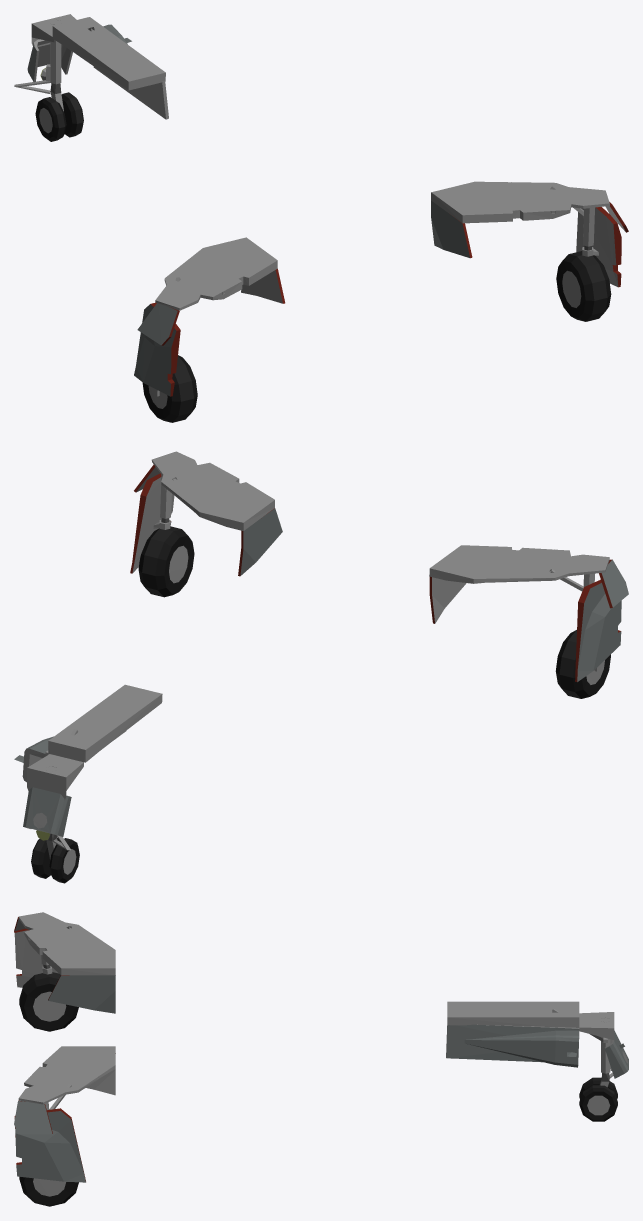
Rendered from Gear_F4EJ.obj.
The picture shows the model from 3 angles, top to bottom: view 1: azimuth 30°, elevation 25°; view 2: azimuth 150°, elevation 25°; view 3: azimuth 270°, elevation 25°; orthographic projection. The views are drawn at different scales.
Parts seen in each view (by area): view 1: ShapeIndexedFaceSet.100_ShapeIndexedFaceSet.101, ShapeIndexedFaceSet.138_ShapeIndexedFaceSet.139, ShapeIndexedFaceSet.117_ShapeIndexedFaceSet.118, ShapeIndexedFaceSet.105_ShapeIndexedFaceSet.106, ShapeIndexedFaceSet.122_ShapeIndexedFaceSet.123, ShapeIndexedFaceSet.114_ShapeIndexedFaceSet.115, ShapeIndexedFaceSet.108_ShapeIndexedFaceSet.109, ShapeIndexedFaceSet.133_ShapeIndexedFaceSet.134, ShapeIndexedFaceSet.101_ShapeIndexedFaceSet.102, ShapeIndexedFaceSet.123_ShapeIndexedFaceSet.124, ShapeIndexedFaceSet.107_ShapeIndexedFaceSet.108, ShapeIndexedFaceSet.145_ShapeIndexedFaceSet.146 (+5 smaller); view 2: ShapeIndexedFaceSet.100_ShapeIndexedFaceSet.101, ShapeIndexedFaceSet.138_ShapeIndexedFaceSet.139, ShapeIndexedFaceSet.117_ShapeIndexedFaceSet.118, ShapeIndexedFaceSet.105_ShapeIndexedFaceSet.106, ShapeIndexedFaceSet.139_ShapeIndexedFaceSet.140, ShapeIndexedFaceSet.114_ShapeIndexedFaceSet.115, ShapeIndexedFaceSet.122_ShapeIndexedFaceSet.123, ShapeIndexedFaceSet.108_ShapeIndexedFaceSet.109, ShapeIndexedFaceSet.107_ShapeIndexedFaceSet.108, ShapeIndexedFaceSet.133_ShapeIndexedFaceSet.134, ShapeIndexedFaceSet.101_ShapeIndexedFaceSet.102, ShapeIndexedFaceSet.113_ShapeIndexedFaceSet.114 (+2 smaller); view 3: ShapeIndexedFaceSet.100_ShapeIndexedFaceSet.101, ShapeIndexedFaceSet.143_ShapeIndexedFaceSet.144, ShapeIndexedFaceSet.138_ShapeIndexedFaceSet.139, ShapeIndexedFaceSet.120_ShapeIndexedFaceSet.121, ShapeIndexedFaceSet.111_ShapeIndexedFaceSet.112, ShapeIndexedFaceSet.101_ShapeIndexedFaceSet.102, ShapeIndexedFaceSet.126_ShapeIndexedFaceSet.127, ShapeIndexedFaceSet.119_ShapeIndexedFaceSet.120, ShapeIndexedFaceSet.133_ShapeIndexedFaceSet.134, ShapeIndexedFaceSet.105_ShapeIndexedFaceSet.106, ShapeIndexedFaceSet.104_ShapeIndexedFaceSet.105, ShapeIndexedFaceSet.139_ShapeIndexedFaceSet.140 (+3 smaller).
Boxes of the visible parts, box(x1,y1,x2,y2) form: ShapeIndexedFaceSet.100_ShapeIndexedFaceSet.101: box(155, 181, 609, 310); ShapeIndexedFaceSet.138_ShapeIndexedFaceSet.139: box(31, 14, 165, 90); ShapeIndexedFaceSet.117_ShapeIndexedFaceSet.118: box(134, 304, 176, 396); ShapeIndexedFaceSet.105_ShapeIndexedFaceSet.106: box(556, 254, 611, 321); ShapeIndexedFaceSet.122_ShapeIndexedFaceSet.123: box(576, 207, 618, 286); ShapeIndexedFaceSet.114_ShapeIndexedFaceSet.115: box(431, 200, 469, 257); ShapeIndexedFaceSet.108_ShapeIndexedFaceSet.109: box(562, 207, 598, 307); ShapeIndexedFaceSet.133_ShapeIndexedFaceSet.134: box(35, 94, 83, 141); ShapeIndexedFaceSet.101_ShapeIndexedFaceSet.102: box(142, 355, 197, 422); ShapeIndexedFaceSet.123_ShapeIndexedFaceSet.124: box(137, 303, 177, 345); ShapeIndexedFaceSet.107_ShapeIndexedFaceSet.108: box(569, 251, 607, 321); ShapeIndexedFaceSet.145_ShapeIndexedFaceSet.146: box(93, 66, 168, 119); ShapeIndexedFaceSet.100_ShapeIndexedFaceSet.101: box(151, 451, 609, 583); ShapeIndexedFaceSet.138_ShapeIndexedFaceSet.139: box(27, 684, 162, 799); ShapeIndexedFaceSet.117_ShapeIndexedFaceSet.118: box(577, 583, 621, 681); ShapeIndexedFaceSet.105_ShapeIndexedFaceSet.106: box(138, 528, 194, 597); ShapeIndexedFaceSet.139_ShapeIndexedFaceSet.140: box(23, 787, 71, 836); ShapeIndexedFaceSet.114_ShapeIndexedFaceSet.115: box(240, 508, 282, 575); ShapeIndexedFaceSet.122_ShapeIndexedFaceSet.123: box(132, 477, 174, 573); ShapeIndexedFaceSet.108_ShapeIndexedFaceSet.109: box(153, 475, 188, 583); ShapeIndexedFaceSet.107_ShapeIndexedFaceSet.108: box(142, 526, 181, 596); ShapeIndexedFaceSet.133_ShapeIndexedFaceSet.134: box(31, 837, 79, 883); ShapeIndexedFaceSet.101_ShapeIndexedFaceSet.102: box(555, 630, 610, 698); ShapeIndexedFaceSet.113_ShapeIndexedFaceSet.114: box(432, 577, 466, 623); ShapeIndexedFaceSet.100_ShapeIndexedFaceSet.101: box(18, 912, 115, 1104); ShapeIndexedFaceSet.143_ShapeIndexedFaceSet.144: box(446, 1024, 579, 1067); ShapeIndexedFaceSet.138_ShapeIndexedFaceSet.139: box(447, 1001, 614, 1039); ShapeIndexedFaceSet.120_ShapeIndexedFaceSet.121: box(15, 1111, 85, 1182); ShapeIndexedFaceSet.111_ShapeIndexedFaceSet.112: box(48, 975, 115, 1013); ShapeIndexedFaceSet.101_ShapeIndexedFaceSet.102: box(19, 977, 78, 1031); ShapeIndexedFaceSet.126_ShapeIndexedFaceSet.127: box(14, 1101, 52, 1134); ShapeIndexedFaceSet.119_ShapeIndexedFaceSet.120: box(14, 930, 58, 987); ShapeIndexedFaceSet.133_ShapeIndexedFaceSet.134: box(579, 1080, 617, 1121); ShapeIndexedFaceSet.105_ShapeIndexedFaceSet.106: box(19, 1177, 78, 1206); ShapeIndexedFaceSet.104_ShapeIndexedFaceSet.105: box(33, 955, 66, 1021); ShapeIndexedFaceSet.139_ShapeIndexedFaceSet.140: box(605, 1030, 628, 1078).
Size of what is drawn, in the model's own units: 61.26 by 15.83 by 79.2.
